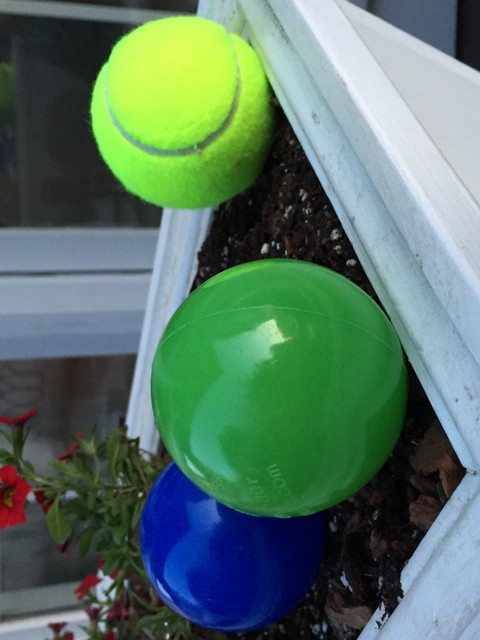Ball: (148, 263, 425, 518)
